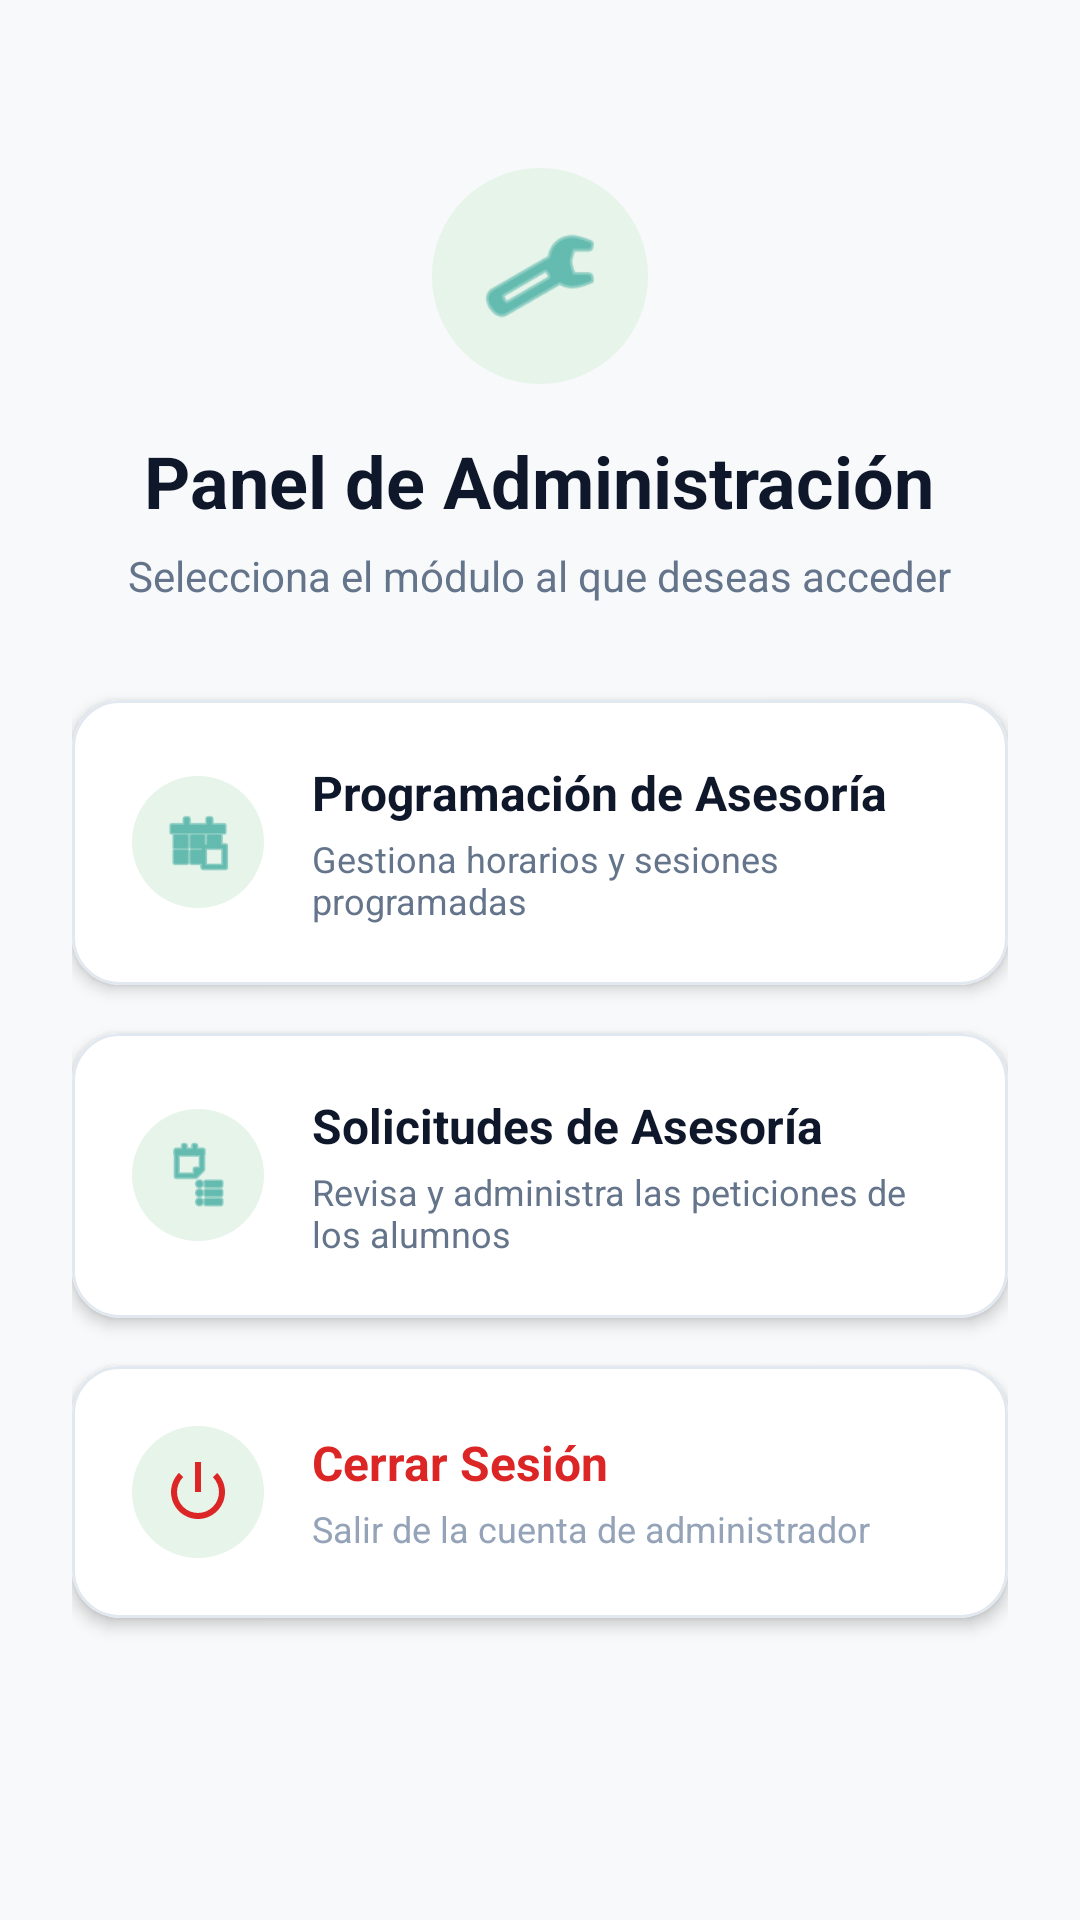

Screen size 1080 × 1920. Icon name, then its center in pixels as point (x, y):
agenda: point (198, 1175)
Icono Admin: point (540, 276)
lock power off: point (198, 1492)
today: point (198, 842)
